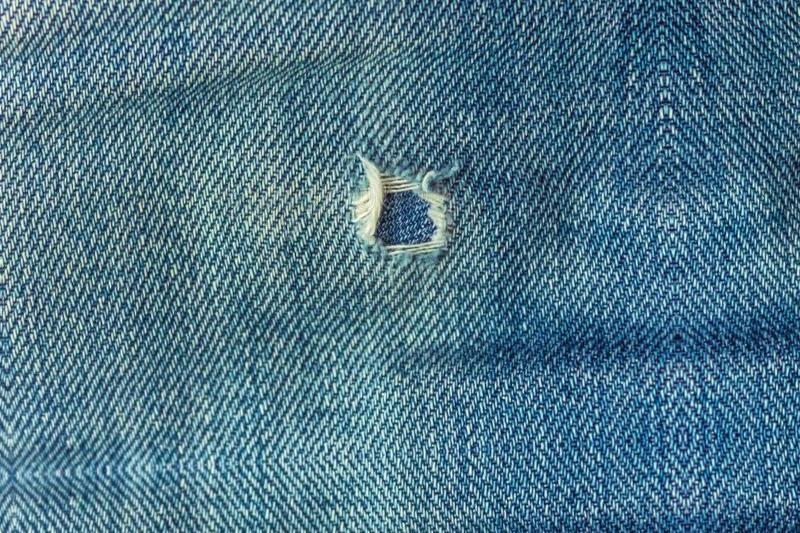hole: (346, 153, 467, 266)
